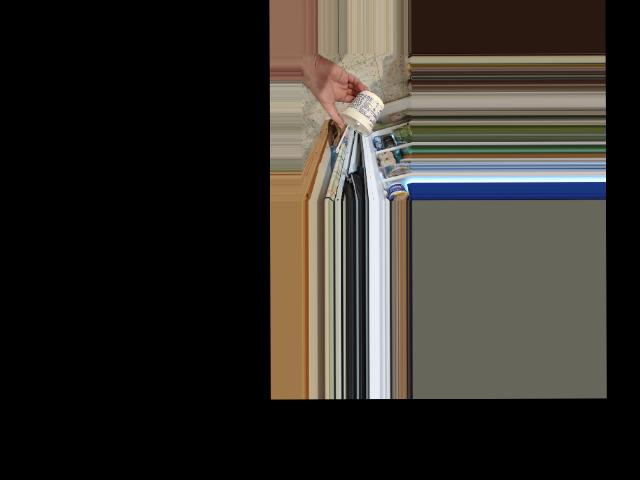cotage: (339, 88, 378, 138)
